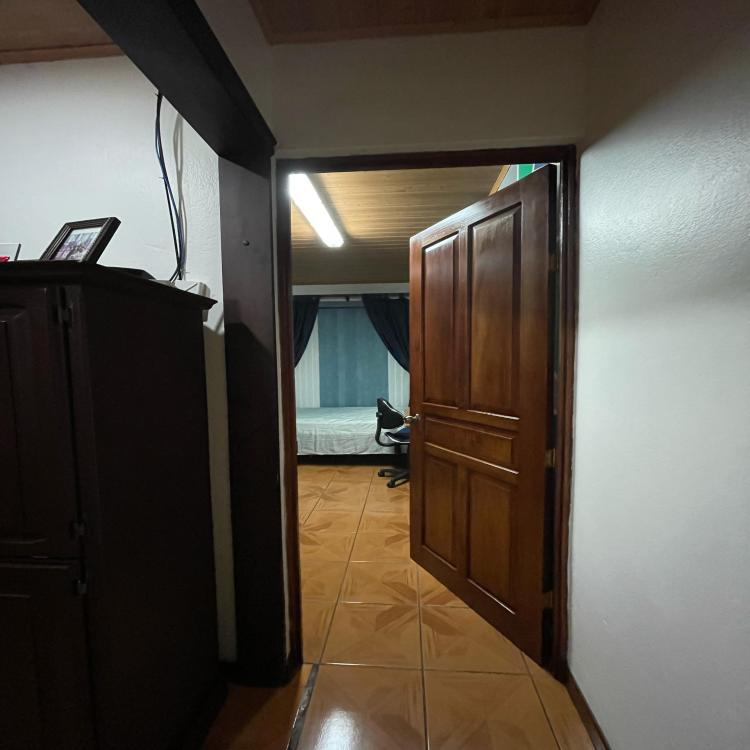OpenDoor: (283, 157, 583, 669)
